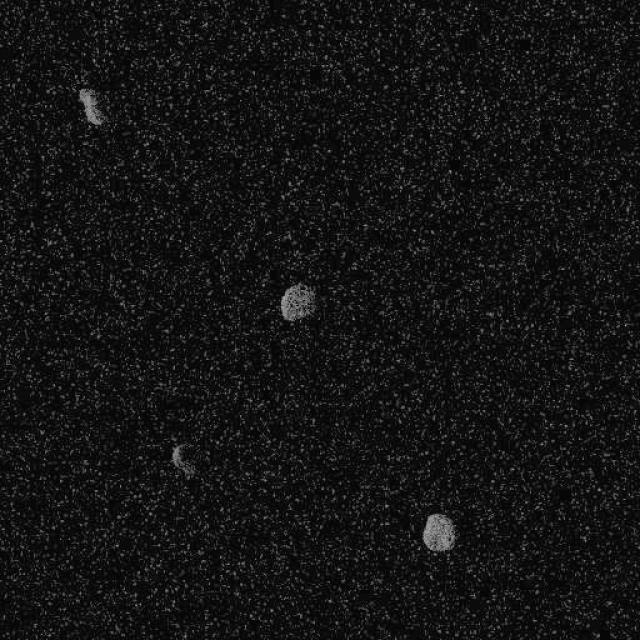D2: (279, 282, 316, 322), (421, 512, 455, 552), (76, 86, 106, 128), (170, 441, 196, 480)
